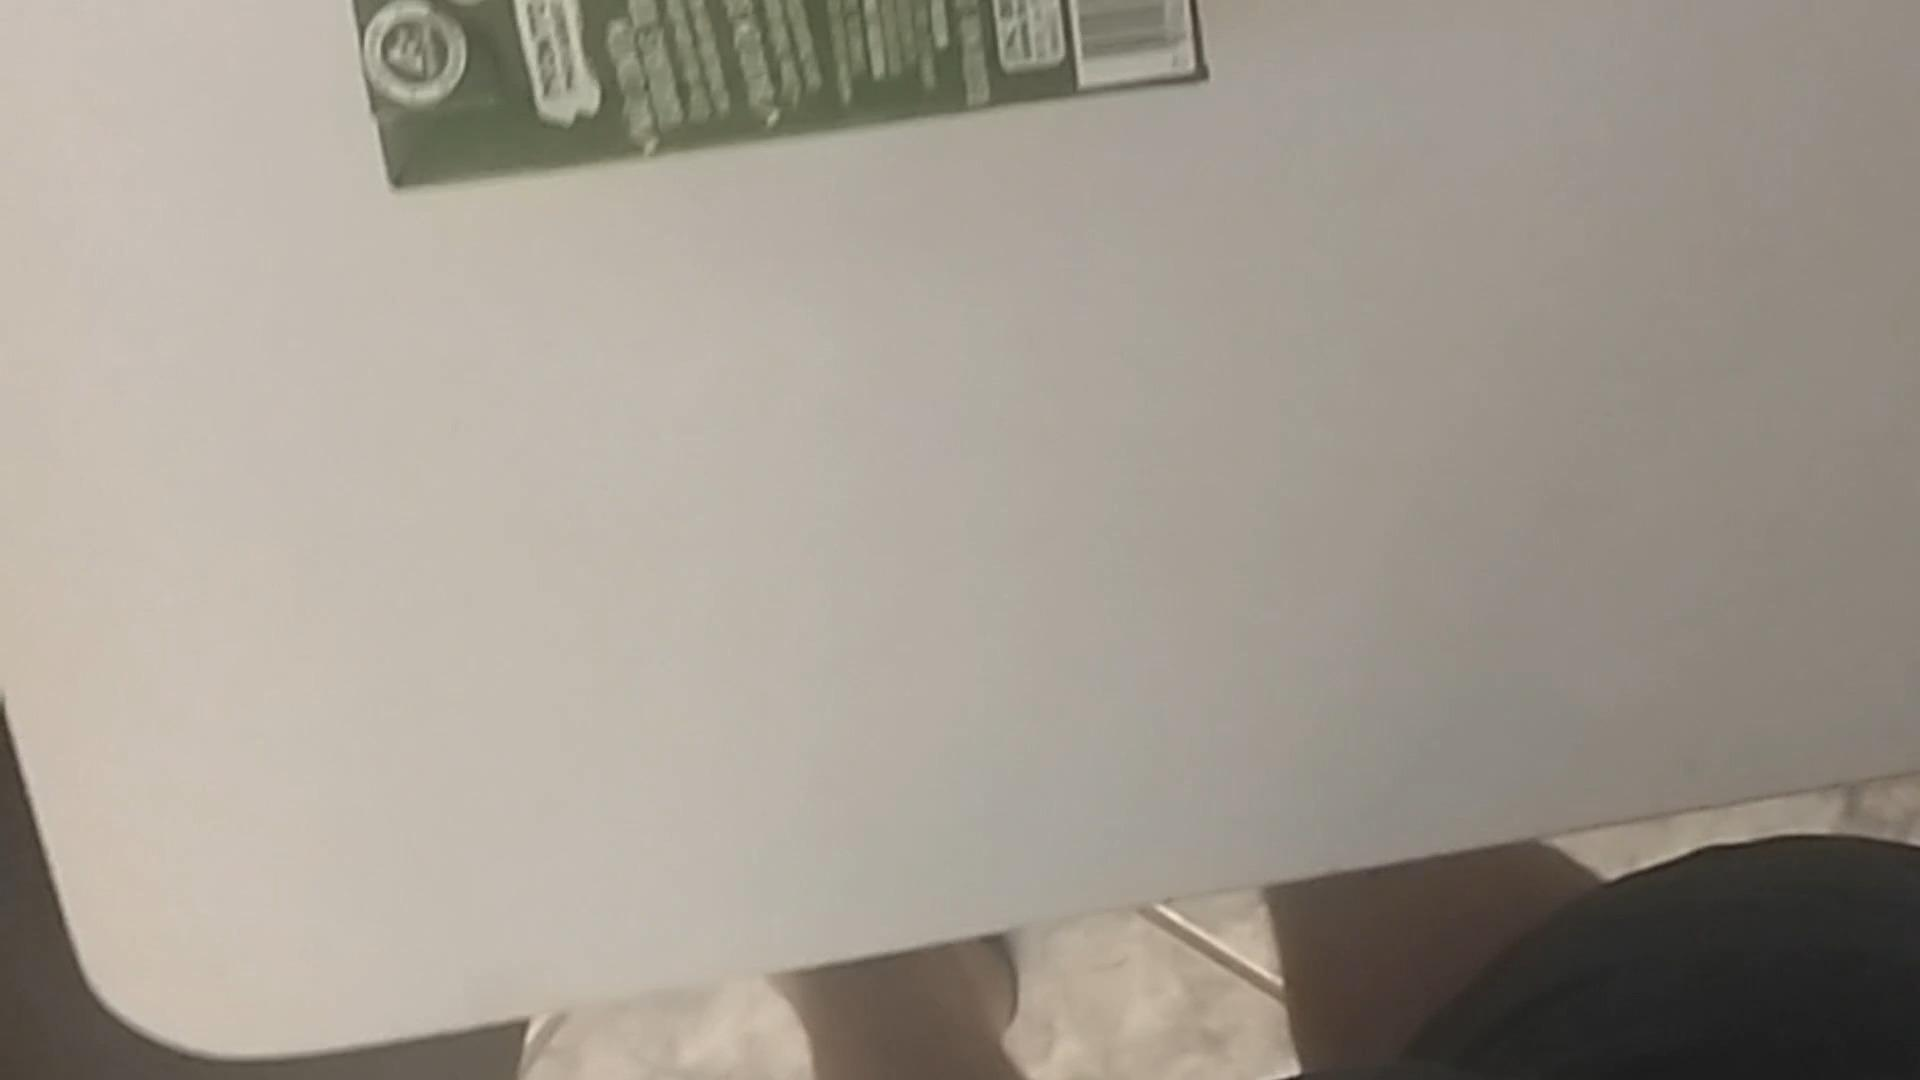coco: (313, 0, 1228, 198)
